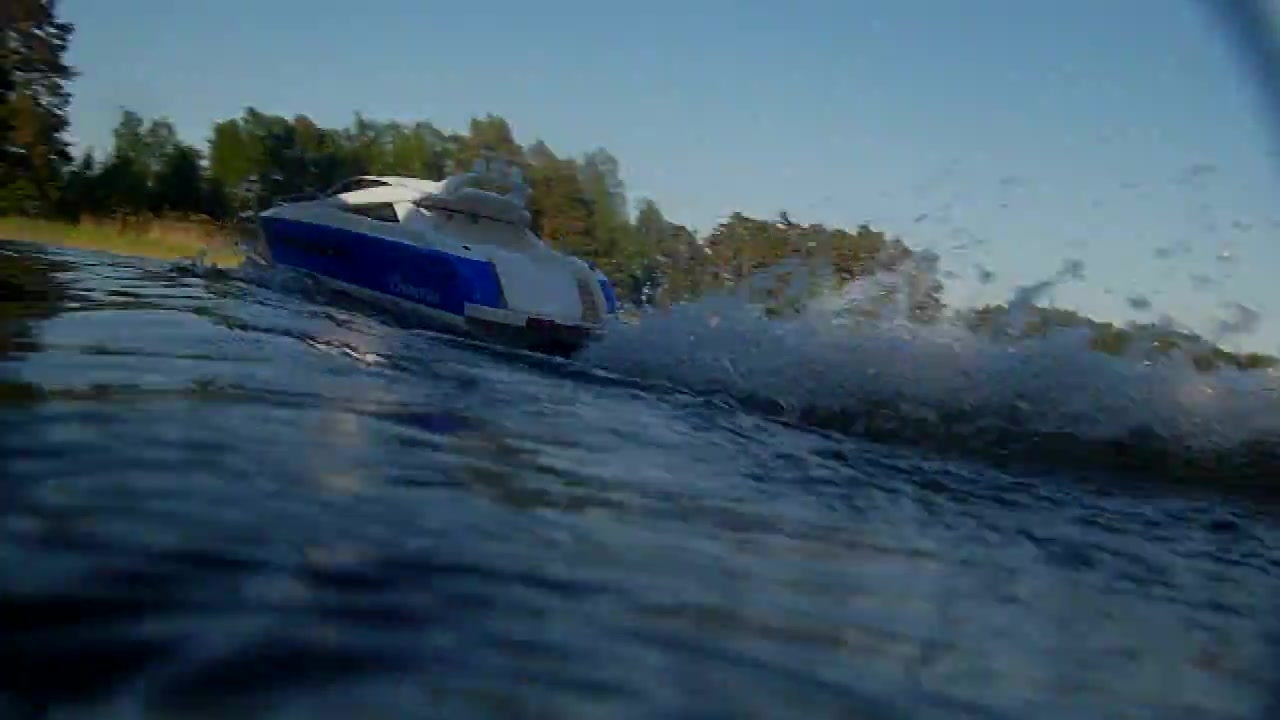boat: (231, 148, 623, 368)
